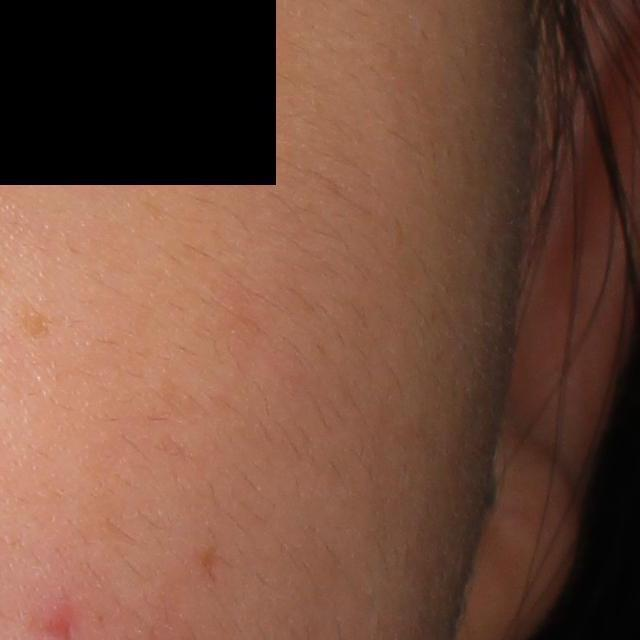melasma: (14, 294, 59, 346)
